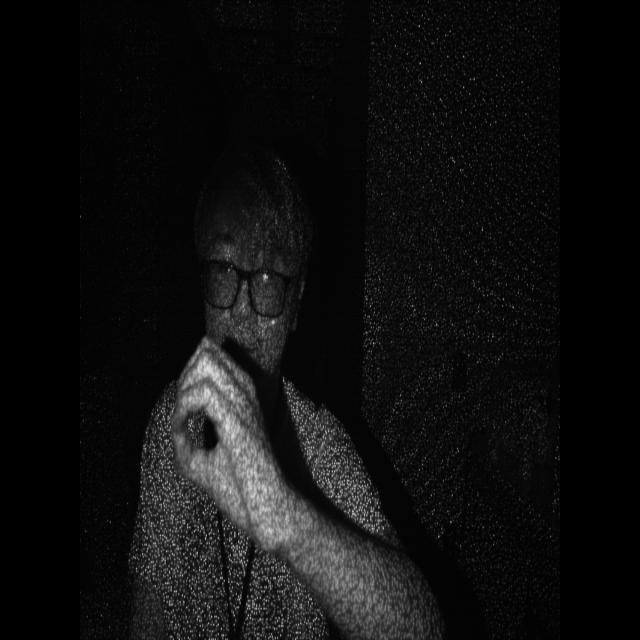O: (164, 320, 258, 520)
